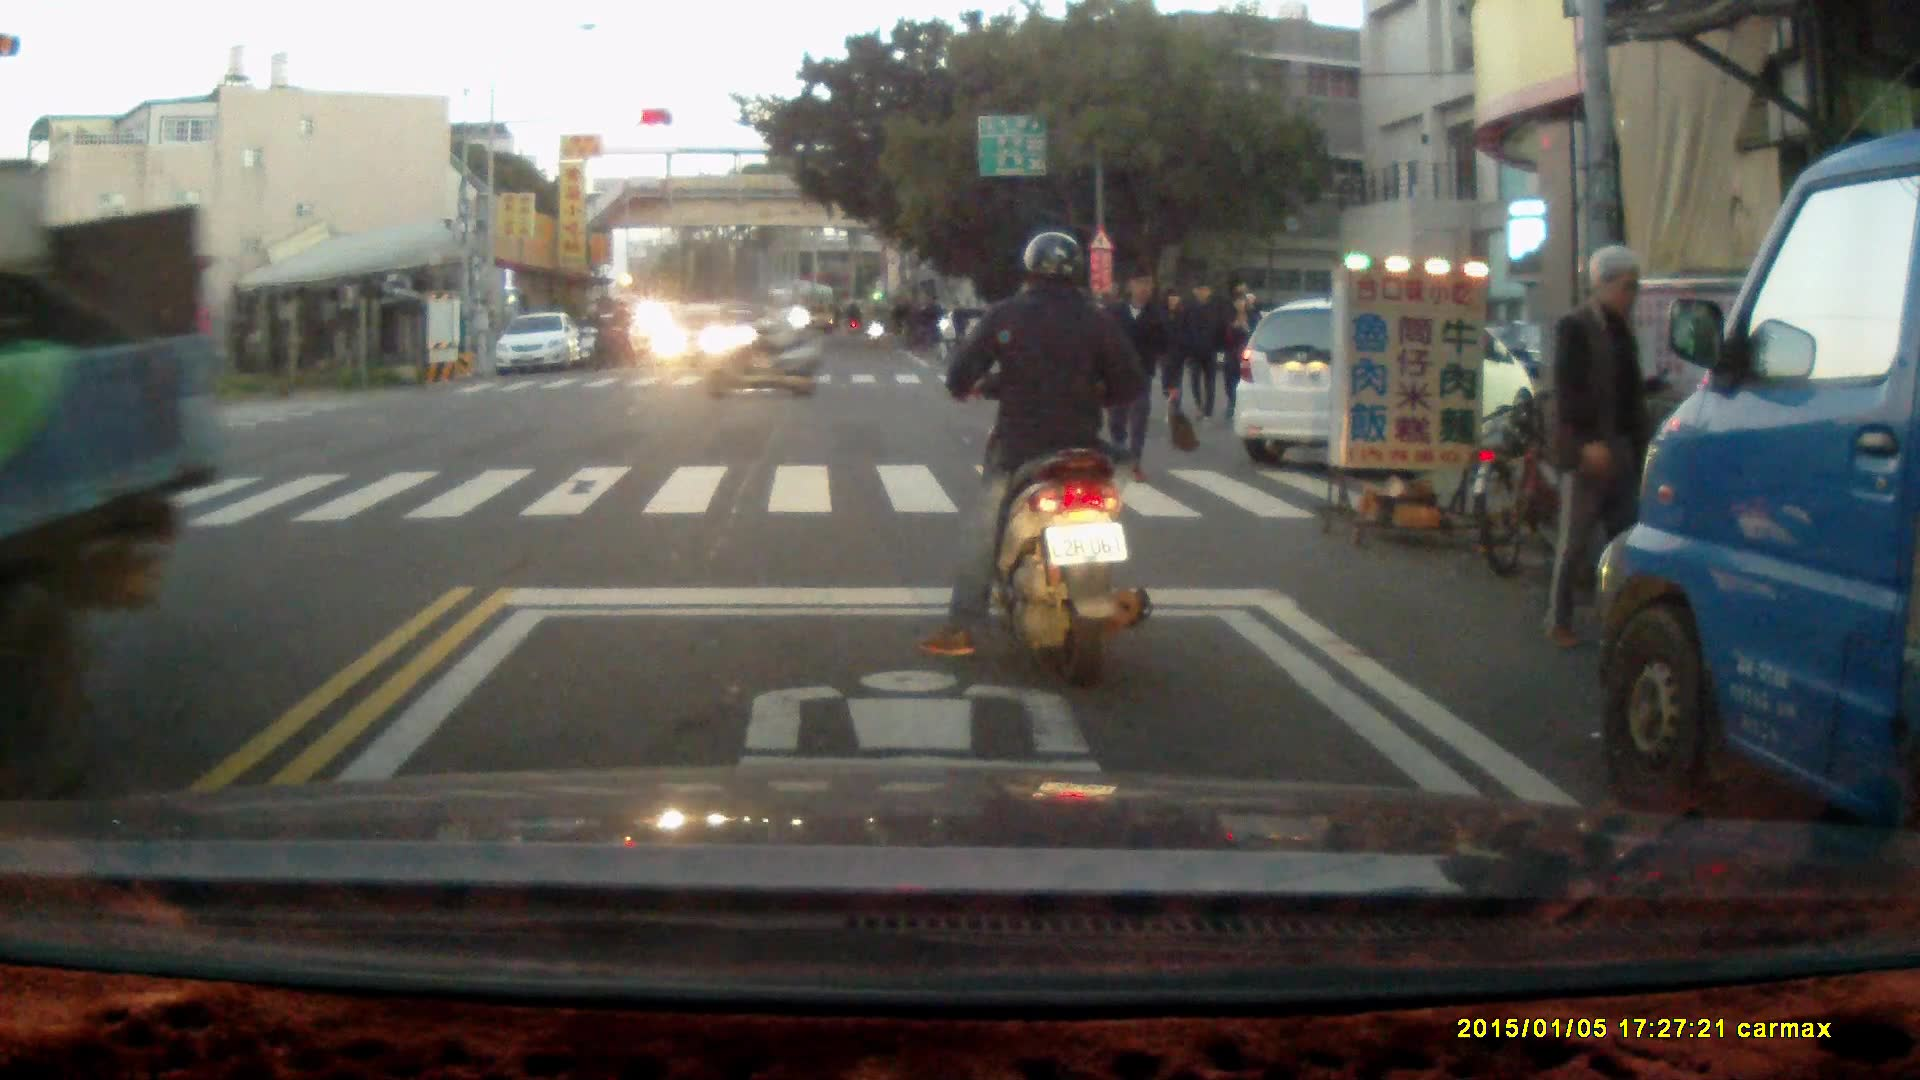pedestrian: (1547, 243, 1703, 648), (1094, 260, 1180, 483), (1151, 282, 1193, 426), (1182, 280, 1224, 419), (1223, 291, 1262, 421)
rider: (917, 228, 1151, 693), (708, 282, 824, 402), (600, 296, 635, 367), (577, 301, 612, 372), (862, 295, 889, 353)
vehicle: (1596, 120, 1920, 901), (1, 179, 208, 719), (1230, 303, 1533, 462), (657, 299, 746, 369), (493, 311, 584, 378)
